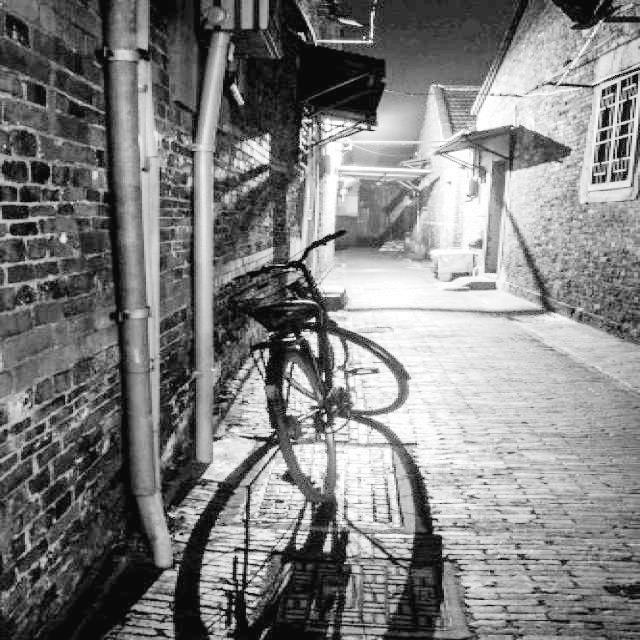Bicycle: (248, 192, 453, 457)
